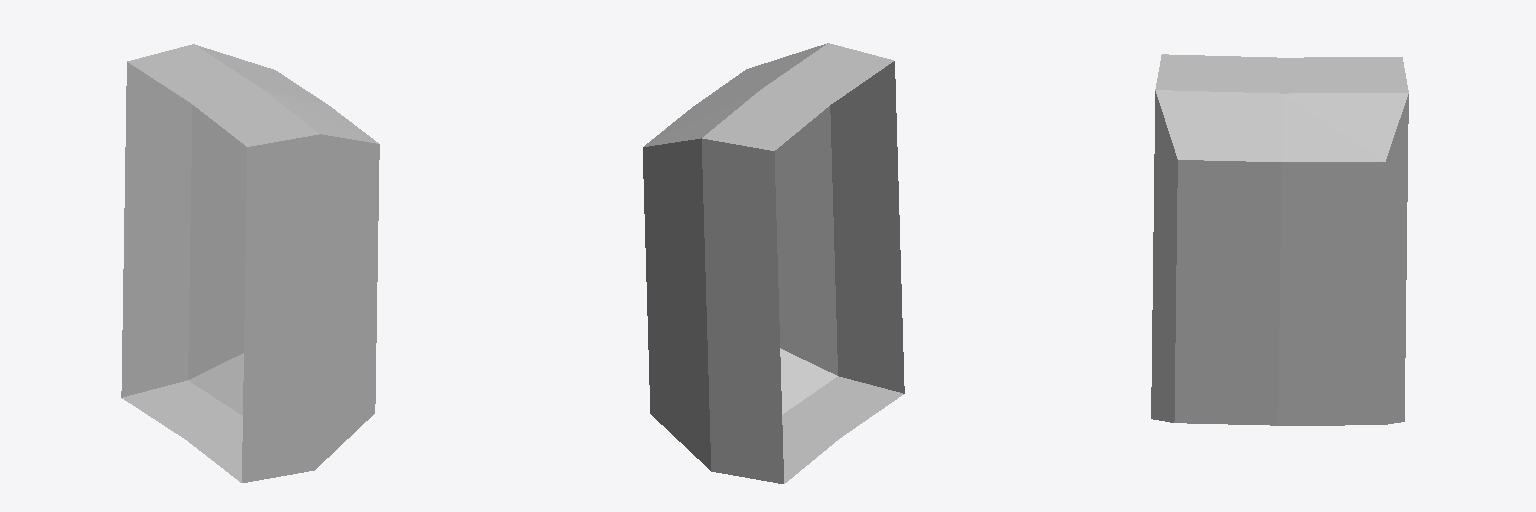
The model's file is tooth.obj.
The picture shows the model from 3 angles: view 1: azimuth 30°, elevation 25°; view 2: azimuth 150°, elevation 25°; view 3: azimuth 270°, elevation 25°; orthographic projection.
Visible parts, largest first — view 1: Gear.001; view 2: Gear.001; view 3: Gear.001.
Part boxes in pixels (x1,y1,x2,y2): Gear.001: (121,44,379,482); Gear.001: (643,43,904,483); Gear.001: (1151,54,1408,425).
Bounding box in the file's own units: 0.2156 × 0.4604 × 0.319.